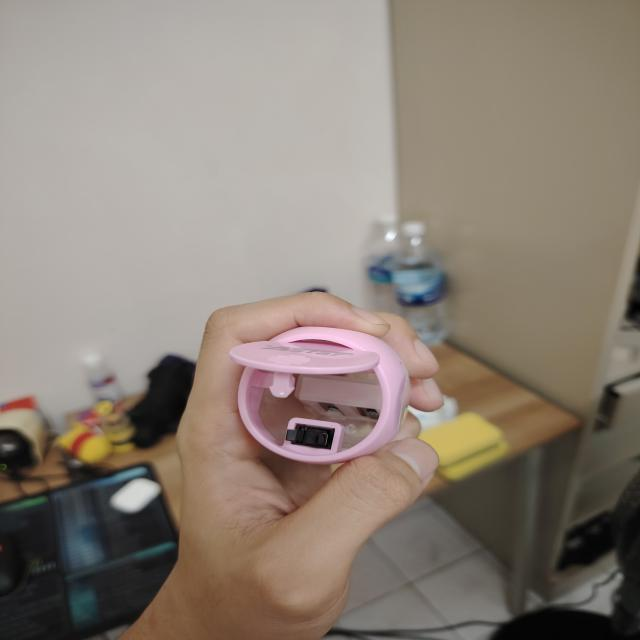sharpener: (230, 327, 410, 464)
